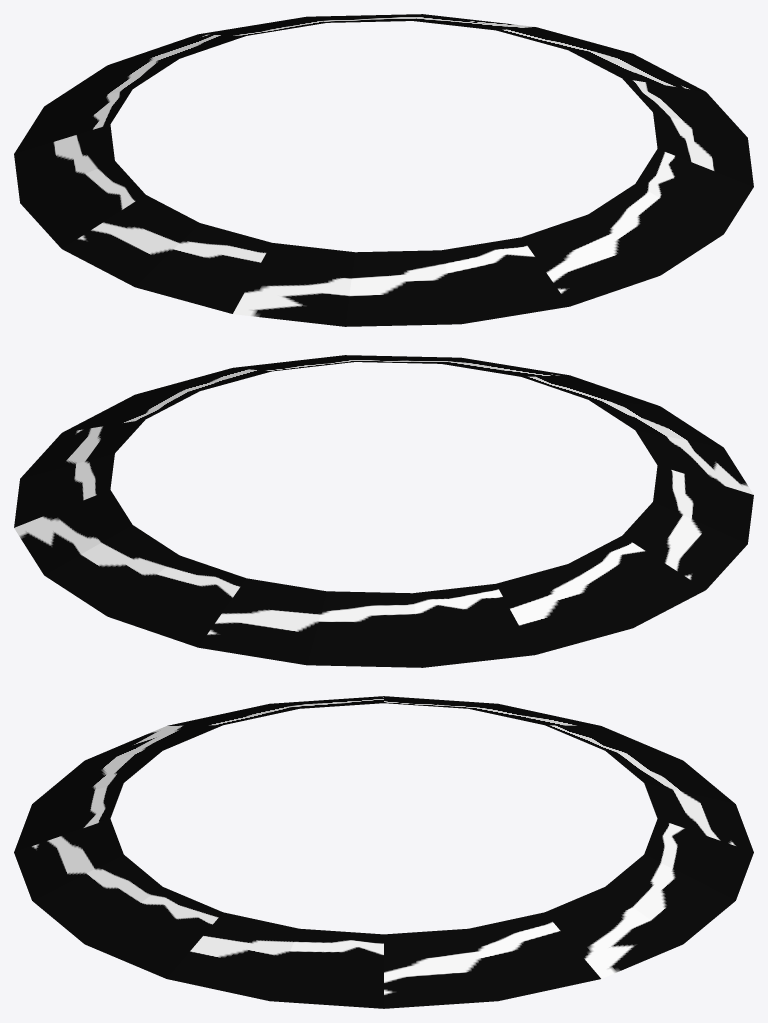
File: Shockwaves.FBX
The picture shows the model from 3 angles, top to bottom: view 1: azimuth 30°, elevation 25°; view 2: azimuth 150°, elevation 25°; view 3: azimuth 270°, elevation 25°; orthographic projection.
Visible parts, largest first — view 1: BFGShockwave; view 2: BFGShockwave; view 3: BFGShockwave.
Part boxes in pixels (bbox=[...]): BFGShockwave: bbox=[14, 14, 753, 326]; BFGShockwave: bbox=[14, 355, 753, 667]; BFGShockwave: bbox=[14, 696, 753, 1008].
Size of the model in its own units: 4.32 by 0.217 by 4.32.
